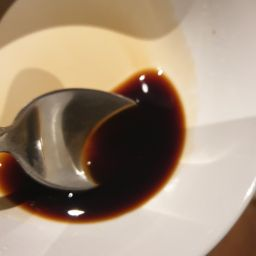Soy Sauce: (2, 72, 187, 211), (132, 91, 168, 178)
